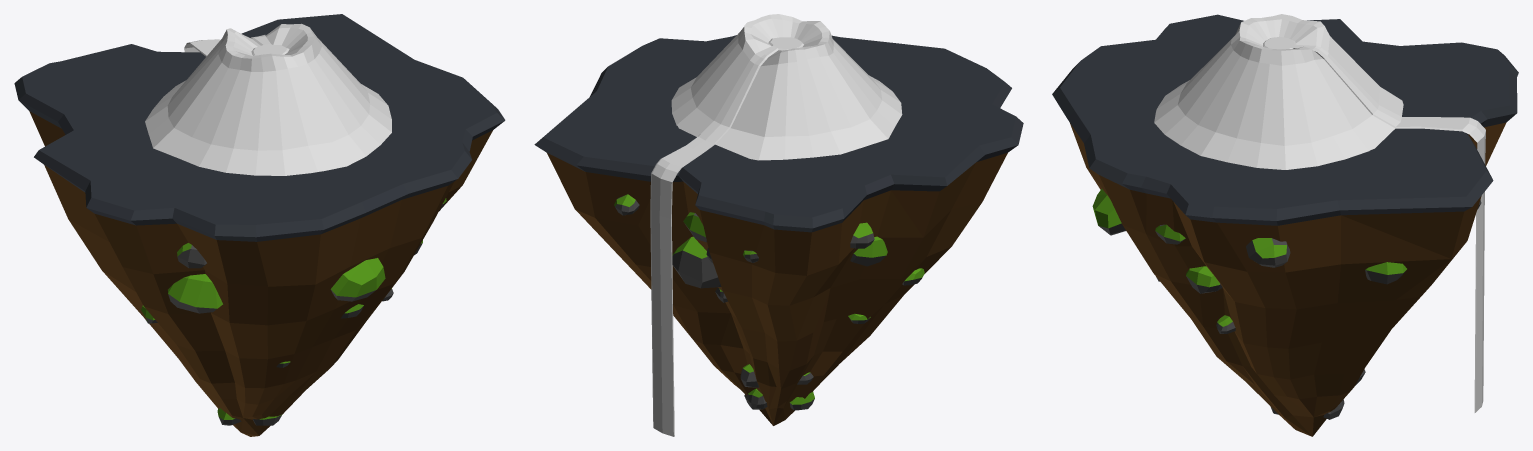
File: Fullcane.fbx
3 views of the same model, side by side, from view 1: azimuth 30°, elevation 25°; view 2: azimuth 150°, elevation 25°; view 3: azimuth 270°, elevation 25° (orthographic). The views are drawn at different scales.
Parts seen in each view (by area): view 1: VulcanIsland, Cylinder.003, Cylinder.004; view 2: VulcanIsland, Cylinder.003, Cylinder.004; view 3: VulcanIsland, Cylinder.003, Cylinder.004.
Boxes of the visible parts, bbox=[...] form: VulcanIsland: bbox=[14, 14, 505, 436]; Cylinder.003: bbox=[145, 23, 391, 175]; Cylinder.004: bbox=[184, 35, 289, 56]; VulcanIsland: bbox=[534, 35, 1023, 425]; Cylinder.003: bbox=[671, 14, 902, 160]; Cylinder.004: bbox=[650, 37, 803, 436]; VulcanIsland: bbox=[1052, 14, 1518, 436]; Cylinder.003: bbox=[1154, 14, 1403, 169]; Cylinder.004: bbox=[1263, 37, 1485, 412].
Bounding box in the file's own units: 5032 × 4759 × 4940.
